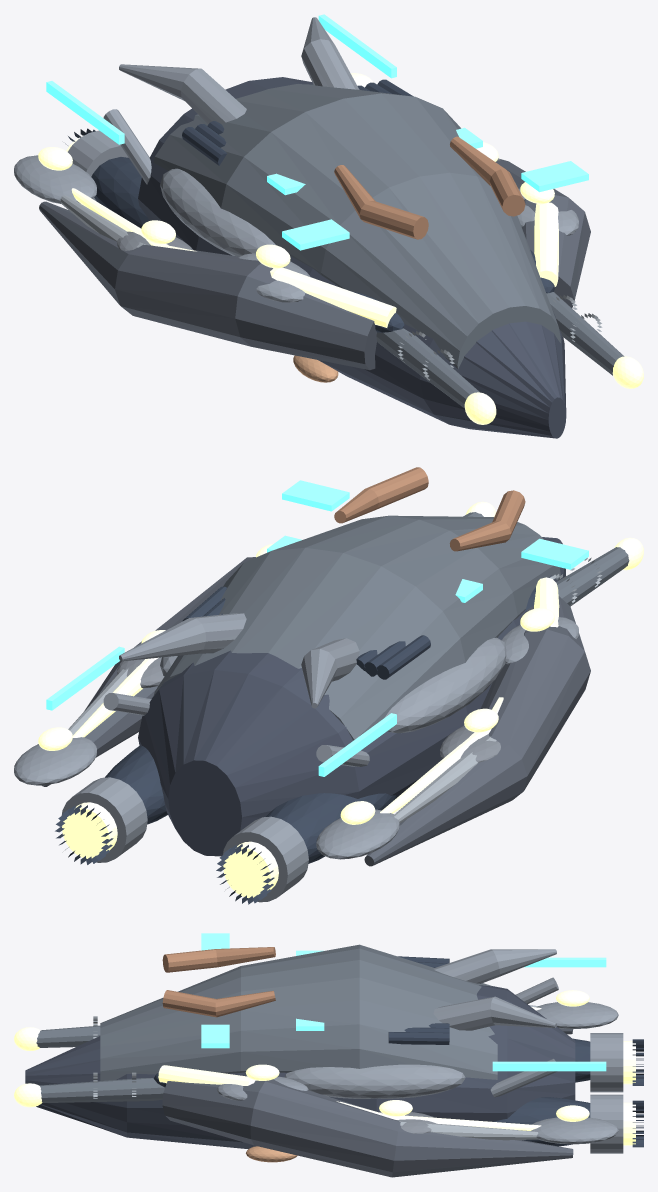
File: npc_riftScout.glb
3 views of the same model, one above another, from view 1: azimuth 30°, elevation 25°; view 2: azimuth 150°, elevation 25°; view 3: azimuth 270°, elevation 25° (orthographic). The views are drawn at different scales.
Parts seen in each view (by area): view 1: upper_armor_scar, armored_scythe_-1, keel_pressure_hull, V59 trim baked, heavy_shield_pad_-1, predator_dorsal_fang_-1, energy_etched_rail_-1, armored_scythe_1, long_plasma_cannon_-1, engine_armor_-1, pirate_crest_-1, scythe_plate_-1_2 (+16 smaller); view 2: upper_armor_scar, keel_pressure_hull, armored_scythe_-1, V59 trim baked, heavy_shield_pad_-1, predator_dorsal_fang_1, exhaust_coil_1, exhaust_coil_-1, engine_armor_-1, armored_scythe_1, scythe_plate_1_2, scythe_plate_-1_2 (+22 smaller); view 3: upper_armor_scar, armored_scythe_1, keel_pressure_hull, heavy_shield_pad_1, V59 trim baked, predator_dorsal_fang_1, long_plasma_cannon_1, predator_dorsal_fang_-1, energy_etched_rail_1, pirate_crest_-1, pirate_crest_1, exhaust_coil_-1 (+23 smaller).
Boxes of the visible parts, x1,y1,x2,y2 form: upper_armor_scar: (153, 84, 561, 368); armored_scythe_-1: (39, 201, 376, 370); keel_pressure_hull: (138, 77, 566, 438); V59 trim baked: (46, 14, 588, 250); heavy_shield_pad_-1: (160, 168, 275, 256); predator_dorsal_fang_-1: (119, 64, 246, 124); energy_etched_rail_-1: (71, 188, 396, 327); armored_scythe_1: (495, 159, 590, 308); long_plasma_cannon_-1: (376, 328, 479, 408); engine_armor_-1: (91, 157, 149, 228); pirate_crest_-1: (334, 165, 428, 239); scythe_plate_-1_2: (14, 155, 96, 203); upper_armor_scar: (153, 515, 560, 740); keel_pressure_hull: (138, 537, 565, 856); armored_scythe_-1: (364, 596, 590, 866); V59 trim baked: (46, 480, 588, 776); heavy_shield_pad_-1: (385, 637, 506, 733); predator_dorsal_fang_1: (119, 613, 246, 661); exhaust_coil_1: (61, 777, 147, 862); exhaust_coil_-1: (223, 816, 308, 902); engine_armor_-1: (266, 793, 396, 863); armored_scythe_1: (41, 557, 255, 786); scythe_plate_1_2: (14, 737, 96, 785); scythe_plate_-1_2: (316, 809, 399, 859); upper_armor_scar: (100, 944, 497, 1080); armored_scythe_1: (162, 1079, 573, 1177); keel_pressure_hull: (25, 985, 575, 1149); heavy_shield_pad_1: (284, 1064, 465, 1098); V59 trim baked: (201, 933, 606, 1071); predator_dorsal_fang_1: (433, 996, 556, 1030); long_plasma_cannon_1: (39, 1078, 164, 1102); predator_dorsal_fang_-1: (433, 949, 556, 983); energy_etched_rail_1: (158, 1065, 541, 1130); pirate_crest_-1: (162, 947, 275, 972); pirate_crest_1: (162, 990, 275, 1017); exhaust_coil_-1: (590, 1033, 623, 1092).
Bounding box in the file's own units: 1.8 × 0.9744 × 3.06.
